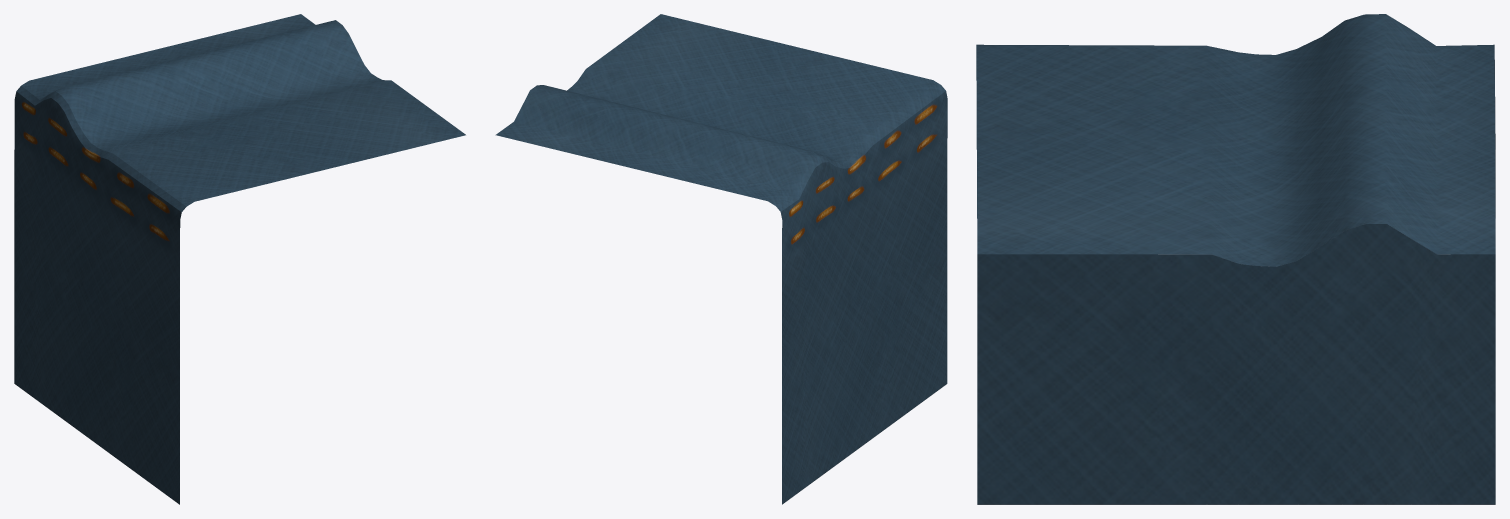
Rendered from tl1_0_mid1.FBX.
The picture shows the model from 3 angles, left to right: view 1: azimuth 30°, elevation 25°; view 2: azimuth 150°, elevation 25°; view 3: azimuth 270°, elevation 25°; orthographic projection. The views are drawn at different scales.
Parts seen in each view (by area): view 1: tl_mid1; view 2: tl_mid1; view 3: tl_mid1.
Boxes of the visible parts, box(x1,y1,x2,y2) form: tl_mid1: box(14, 14, 465, 504); tl_mid1: box(495, 14, 947, 504); tl_mid1: box(976, 14, 1495, 504).
Size of the model in its own units: 100 by 106 by 100.
